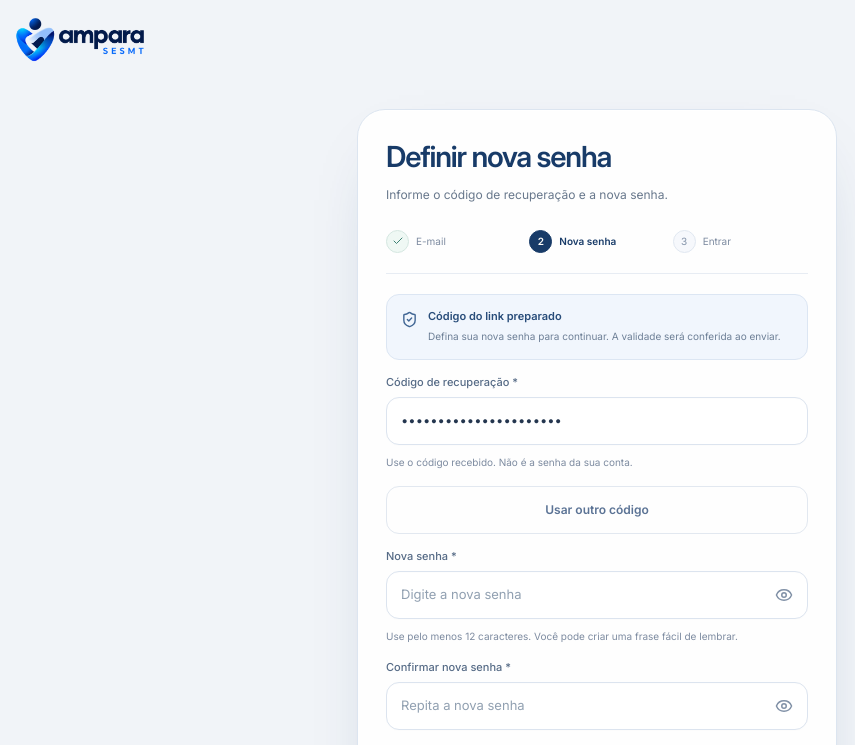
continuidade do acesso › envia recuperação pelo contrato adapter no endpoint /auth/password/reset
In the password field labelled "Nova senha": (597, 595) [386,571,808,619], type "  Frase segura 2026  "
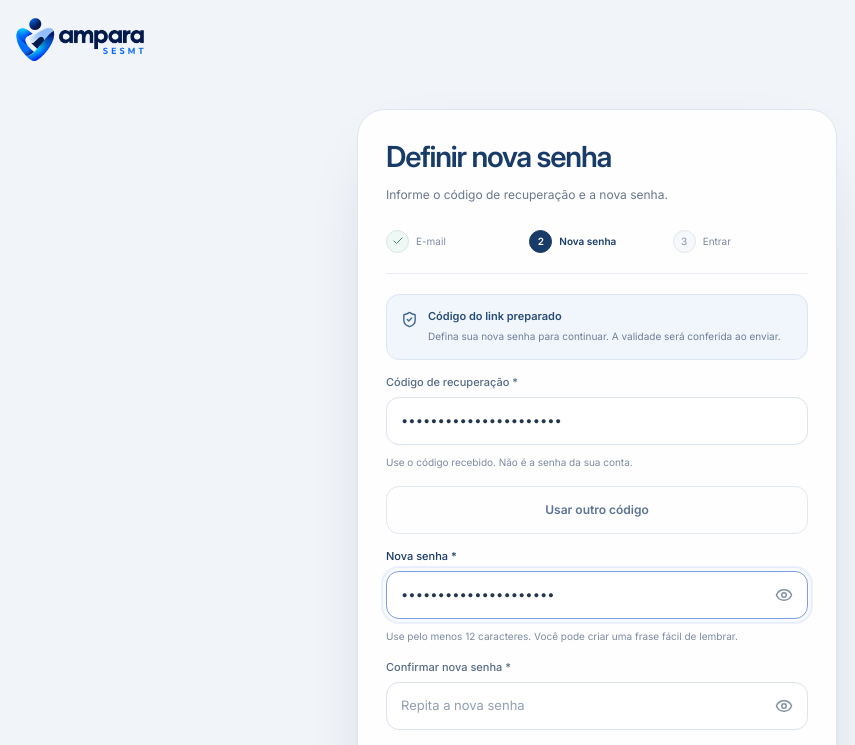
In the password field labelled "Confirmar nova senha": (597, 706) [386,682,808,730], type "  Frase segura 2026  "
(page scrolled)
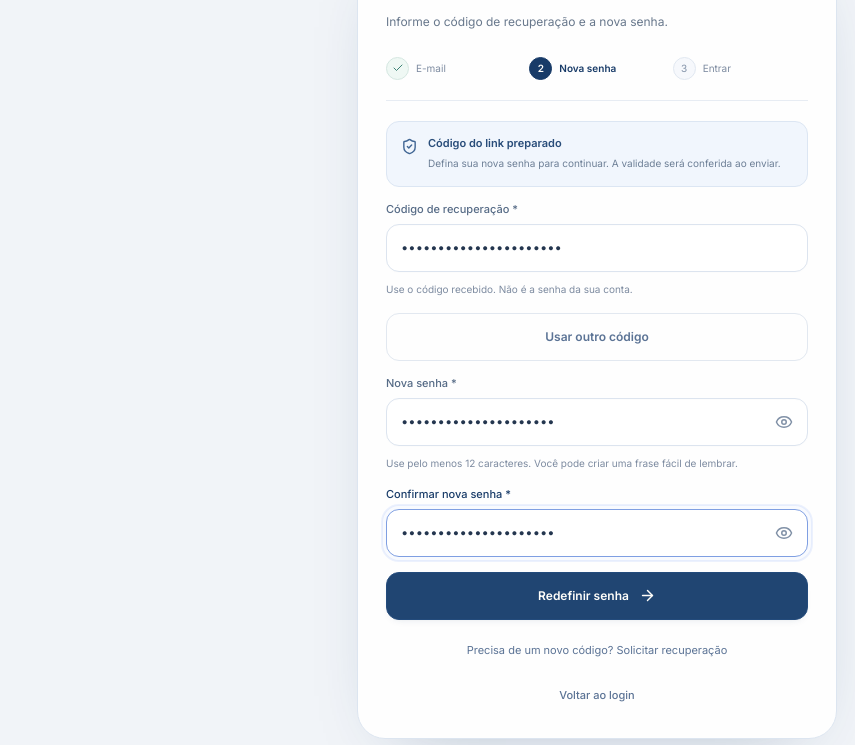
Click the button "Redefinir senha": click(597, 596) [386,572,808,620]
(page scrolled)
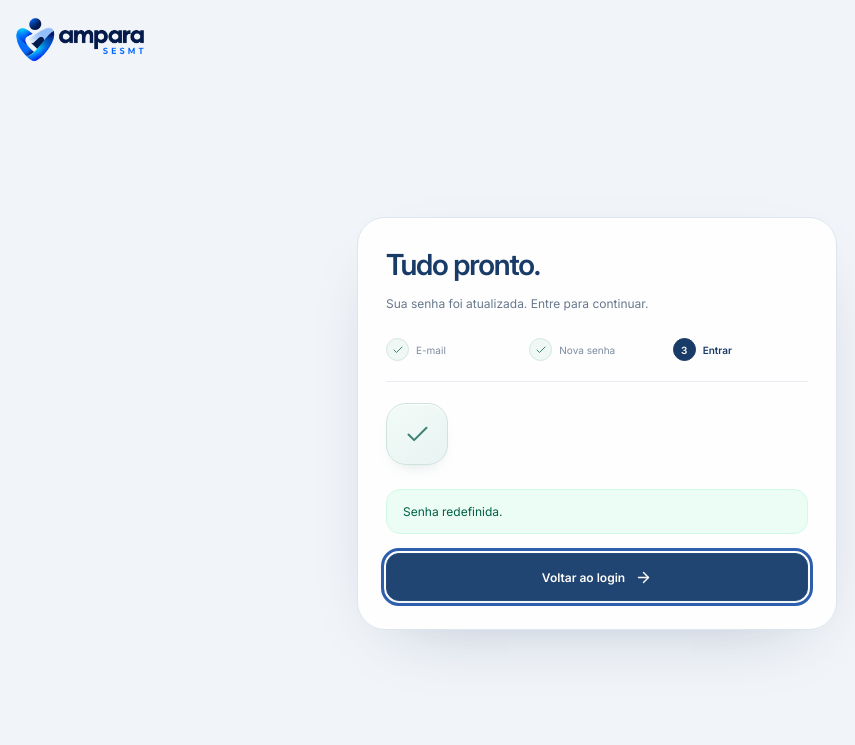
Now the heading "Tudo pronto." is shown, box [386,247,540,282]
